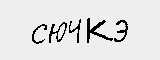Р: (119, 20, 135, 37)
Т: (103, 19, 117, 38)
Ч: (41, 17, 64, 42)
Э: (17, 16, 42, 41), (62, 21, 83, 45)
Ә: (84, 23, 104, 42)
